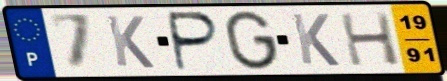7: (46, 12, 95, 73)
G: (223, 9, 281, 72)
H: (336, 10, 403, 68)
K: (104, 14, 158, 70), (289, 12, 343, 68)
P: (167, 10, 223, 73)
